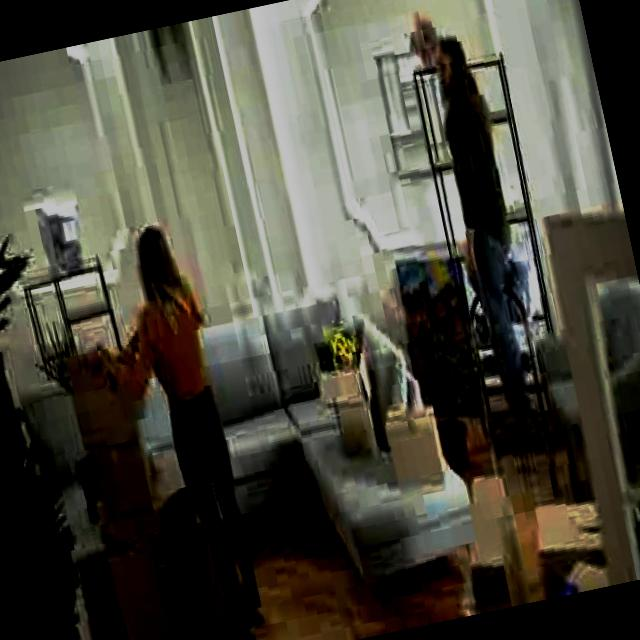Box: (99, 489, 219, 640), (451, 470, 516, 592), (66, 358, 136, 450), (318, 367, 381, 458), (533, 494, 608, 566), (378, 405, 446, 482), (86, 442, 156, 513)
